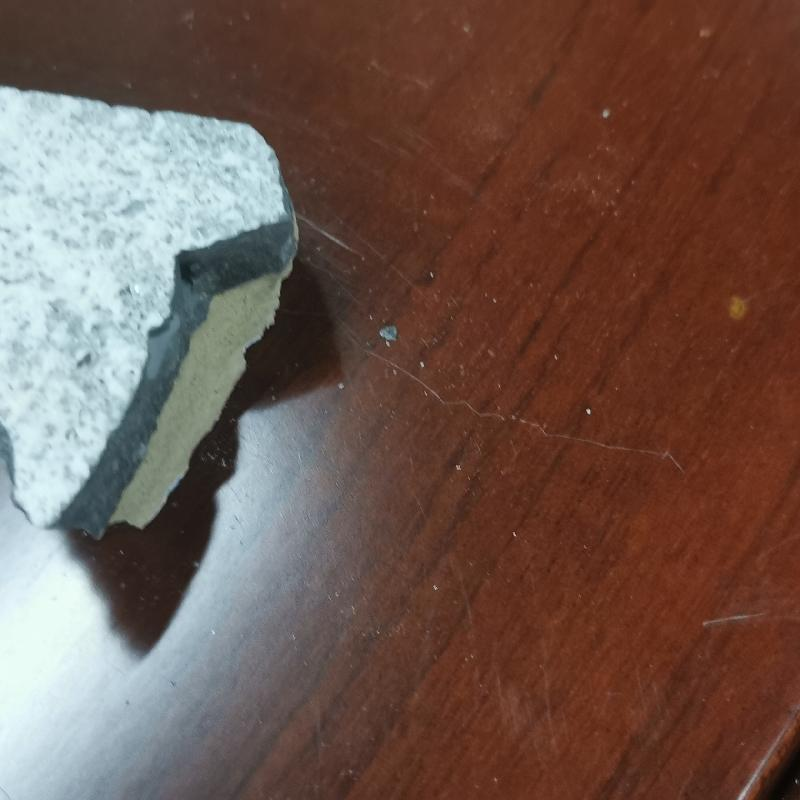tile: (0, 63, 306, 563)
